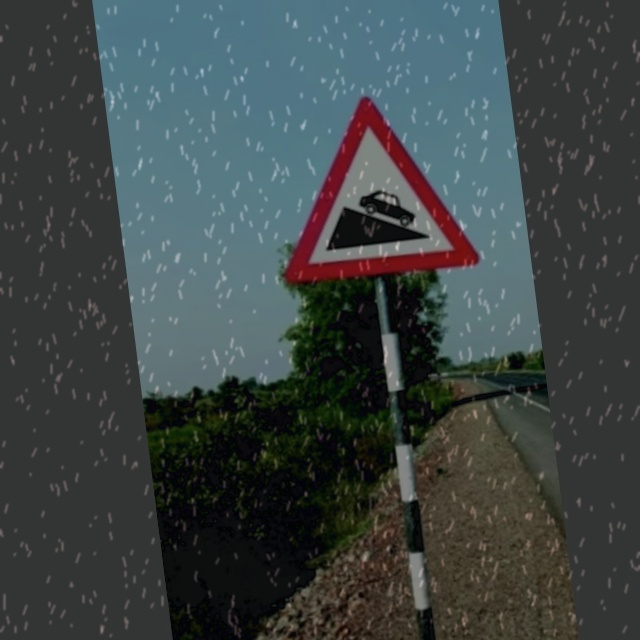Steep_Descent: (269, 84, 479, 292)
